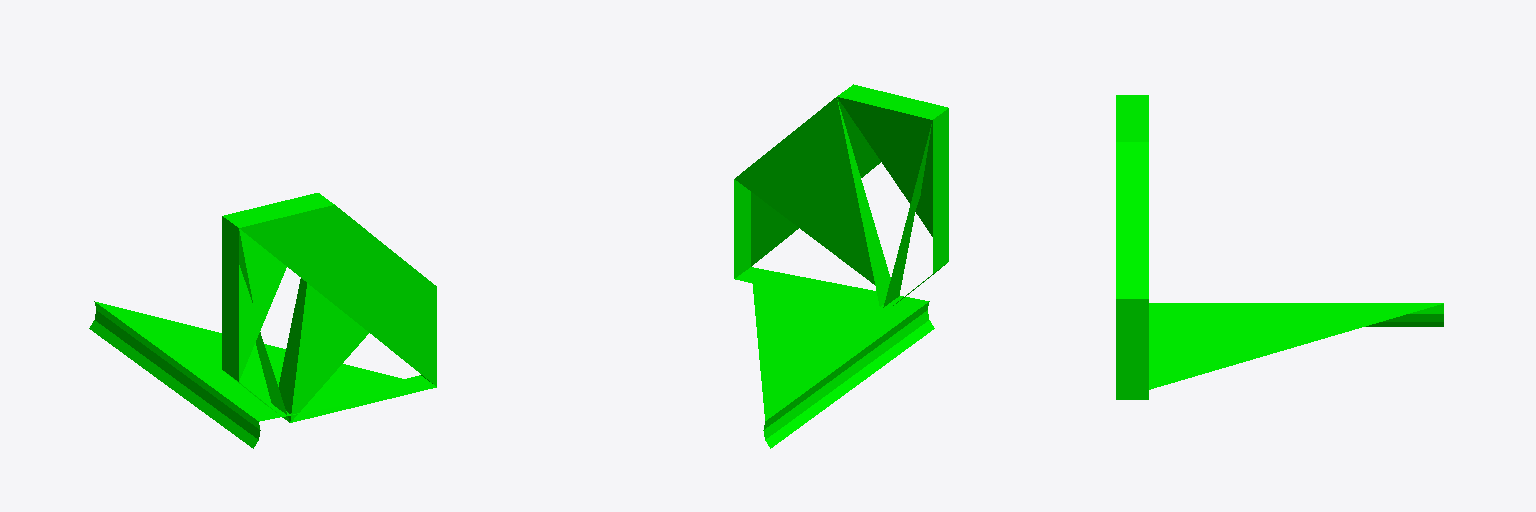
The model's file is transformador_1.obj.
3 views of the same model, side by side, from view 1: azimuth 30°, elevation 25°; view 2: azimuth 150°, elevation 25°; view 3: azimuth 270°, elevation 25° (orthographic).
Bounding box in the file's own units: 174 × 188 × 250.